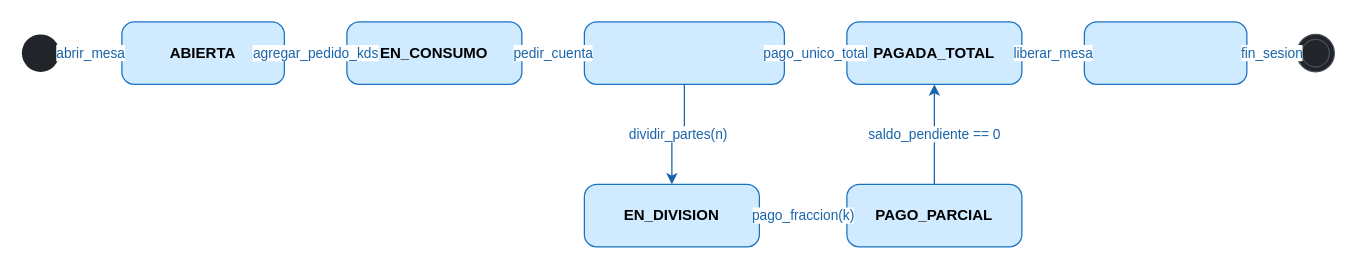
The diagram is 1356 pixels wide and 269 high, and some of its shapes have lost their labels. Each missing label, with the box of its shape:
CERRADA: (1083, 21, 1247, 84)
CUENTA_SOLICITADA: (583, 21, 784, 84)
